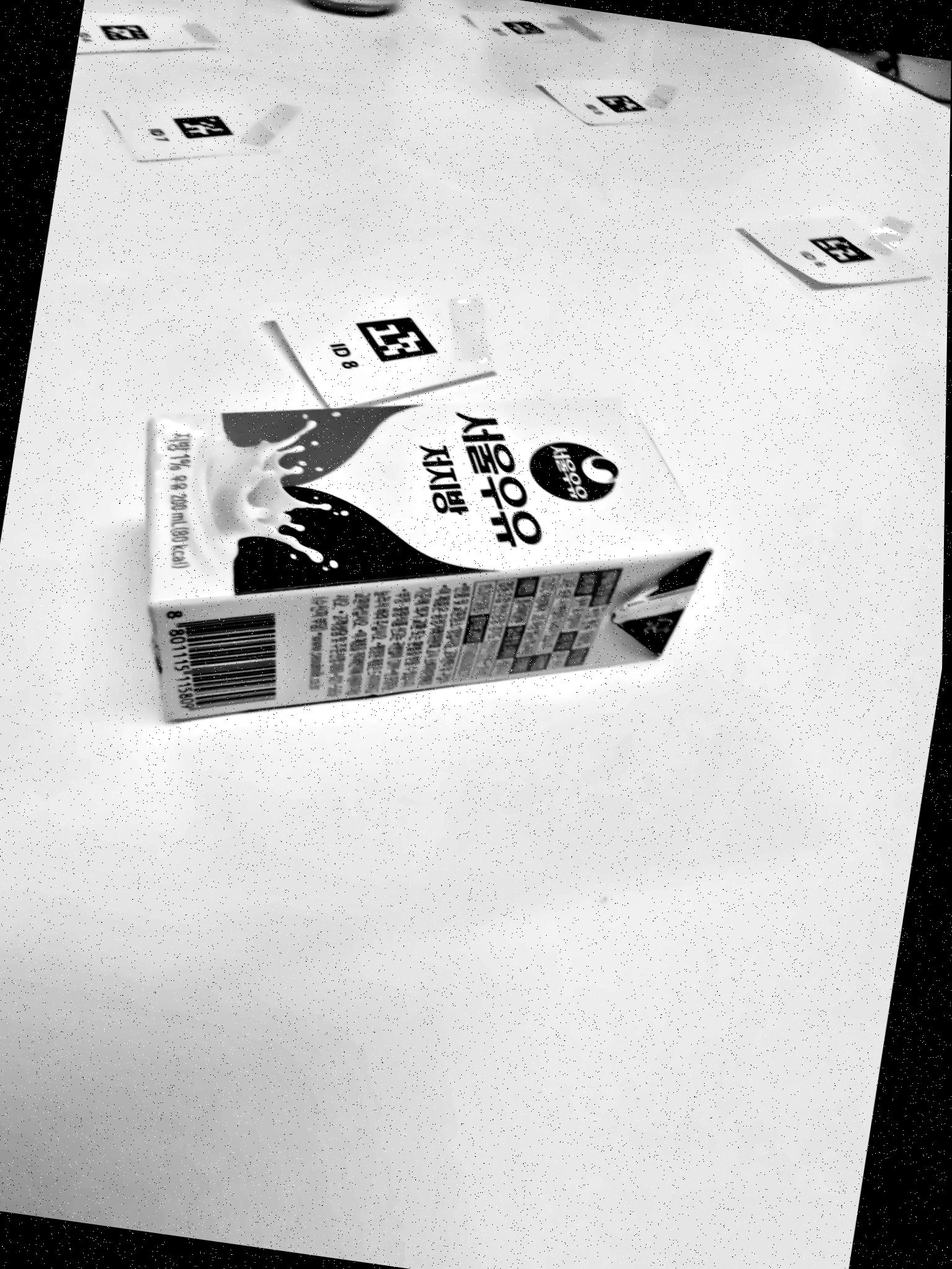milk_blue: (150, 389, 716, 725)
